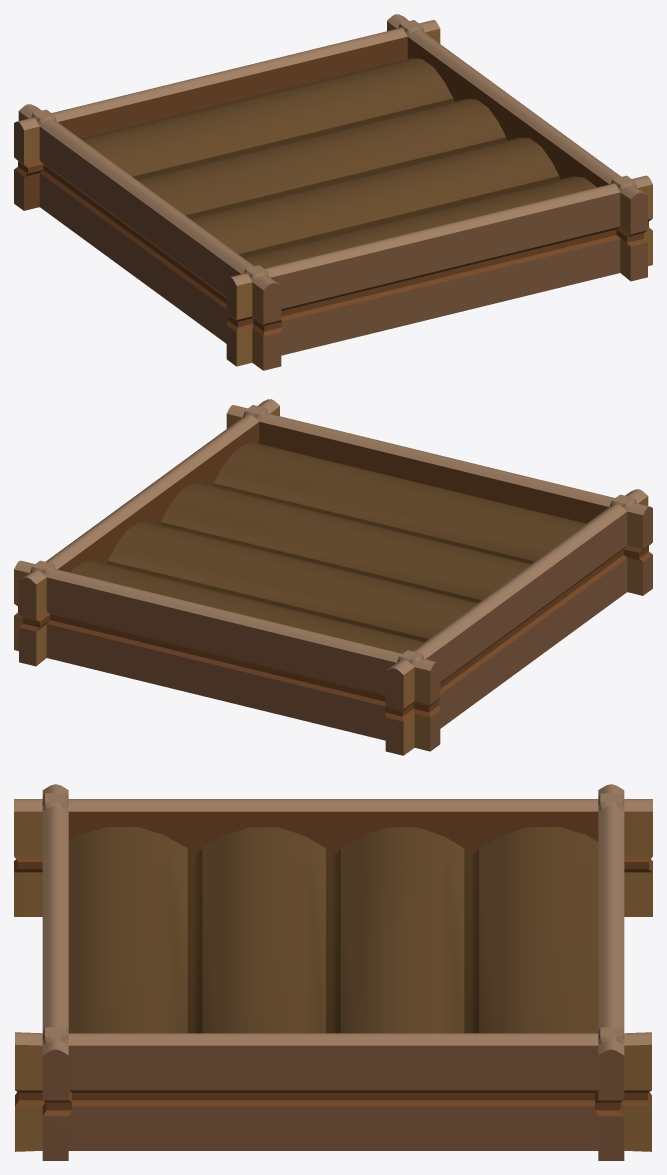
The model's file is potager.fbx.
The picture shows the model from 3 angles, top to bottom: view 1: azimuth 30°, elevation 25°; view 2: azimuth 150°, elevation 25°; view 3: azimuth 270°, elevation 25°; orthographic projection. The views are drawn at different scales.
Visible parts, largest first — view 1: vegetable box; view 2: vegetable box; view 3: vegetable box.
Part boxes in pixels (box(x1,y1,x2,y2)): vegetable box: box(14, 14, 652, 370); vegetable box: box(14, 399, 652, 755); vegetable box: box(14, 784, 652, 1160).
Size of the model in its own units: 295 by 59.3 by 300.
